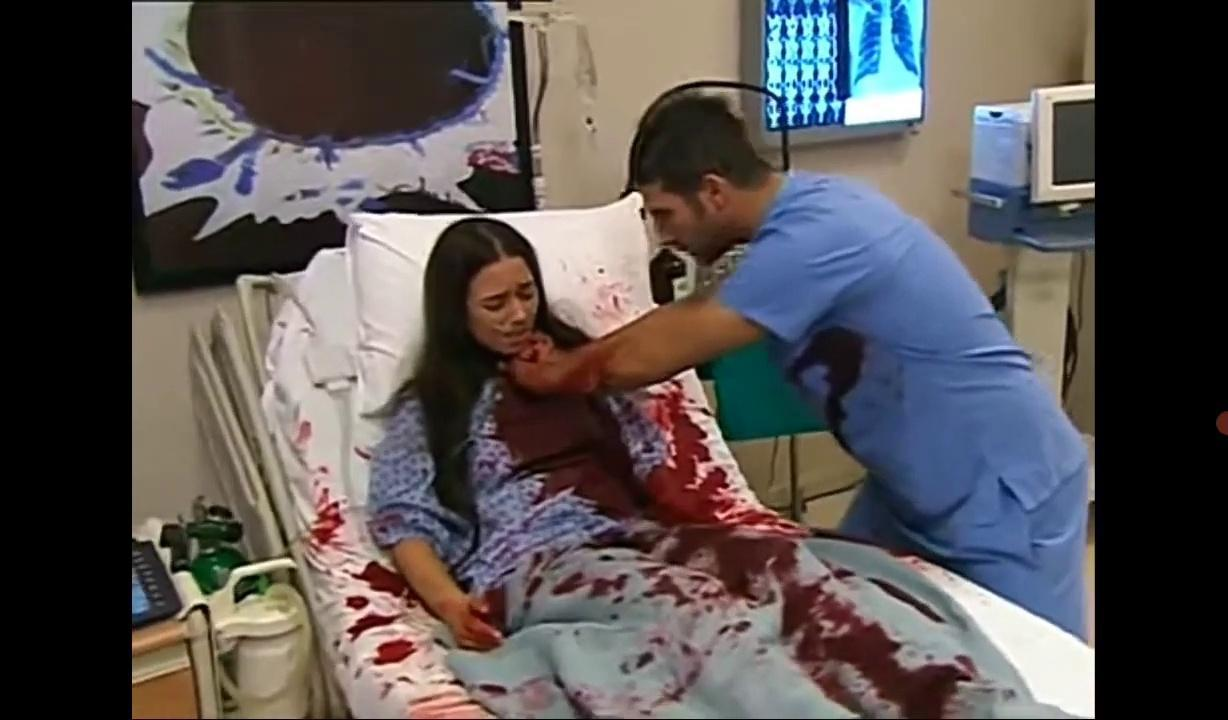Fire: (285, 380, 1056, 718), (794, 325, 867, 445), (582, 263, 647, 336)
